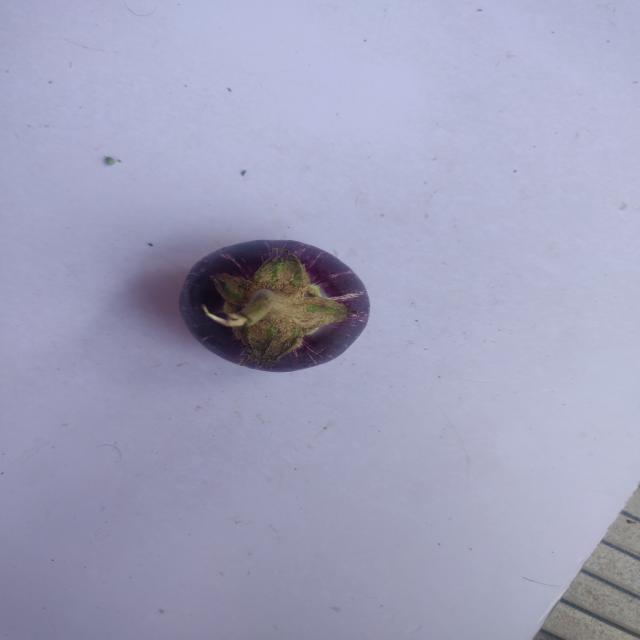Eggplant: (172, 221, 390, 384)
